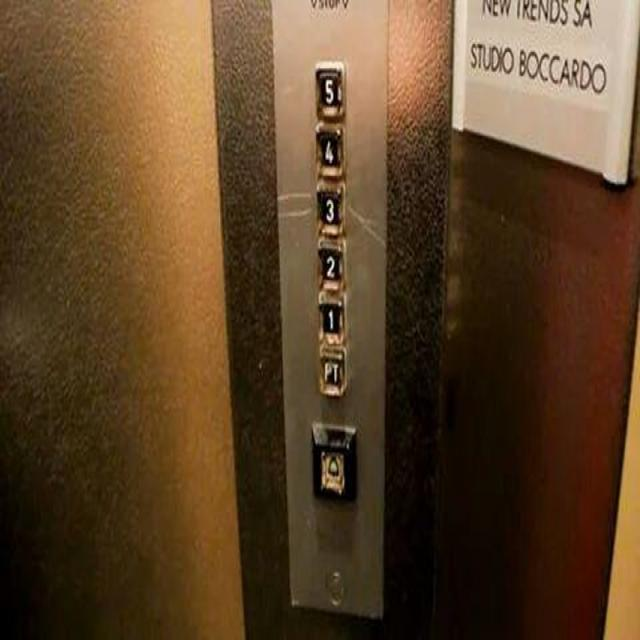1: (314, 291, 346, 344)
2: (314, 237, 344, 291)
3: (313, 182, 344, 238)
4: (314, 123, 345, 176)
5: (314, 61, 344, 118)
PT: (316, 344, 346, 397)
alarm: (315, 441, 348, 499)
